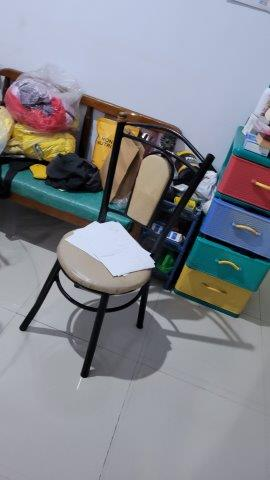kertas: (61, 214, 157, 277)
